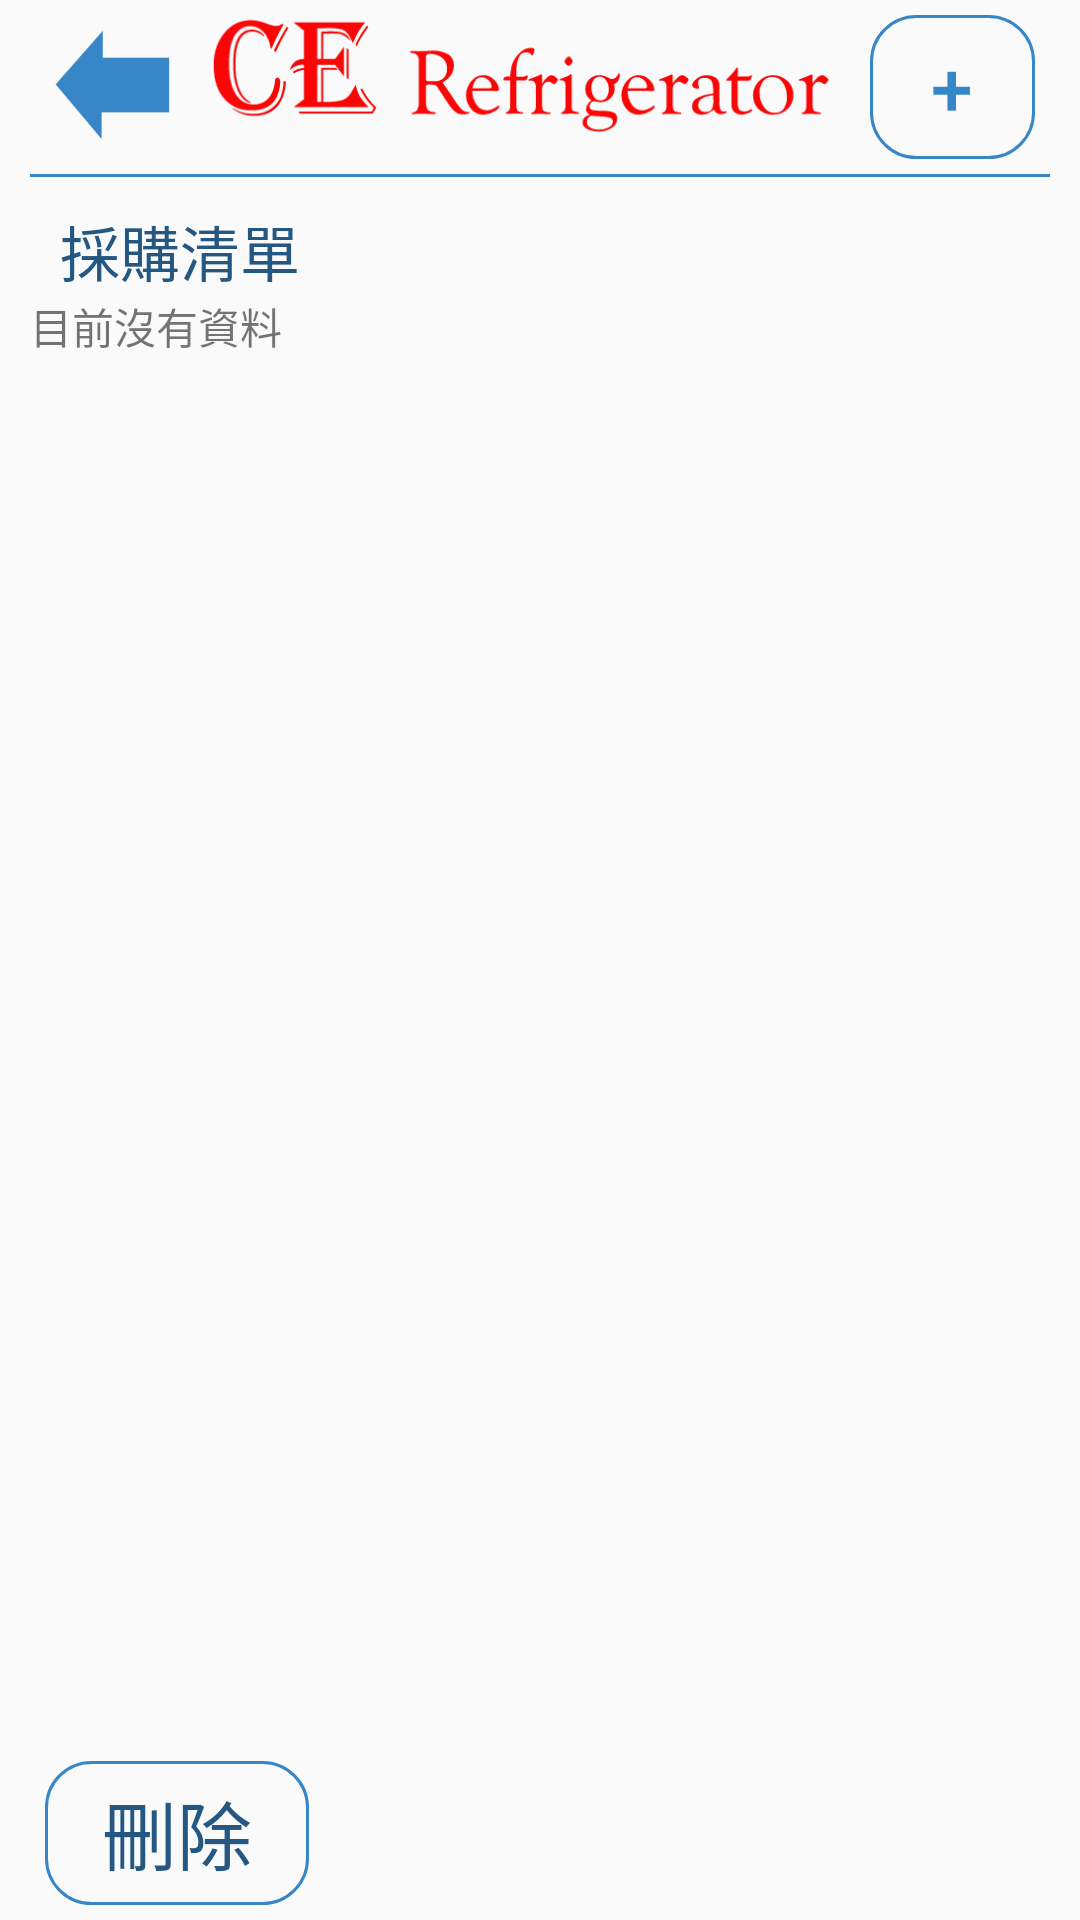

Named icons in this screenshot (1080*1920) and their centers, (x,y):
back: (112,85)
